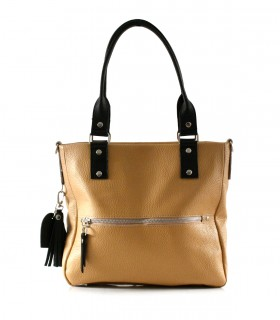cartera: (29, 15, 252, 303)
cuero: (27, 13, 250, 301)
